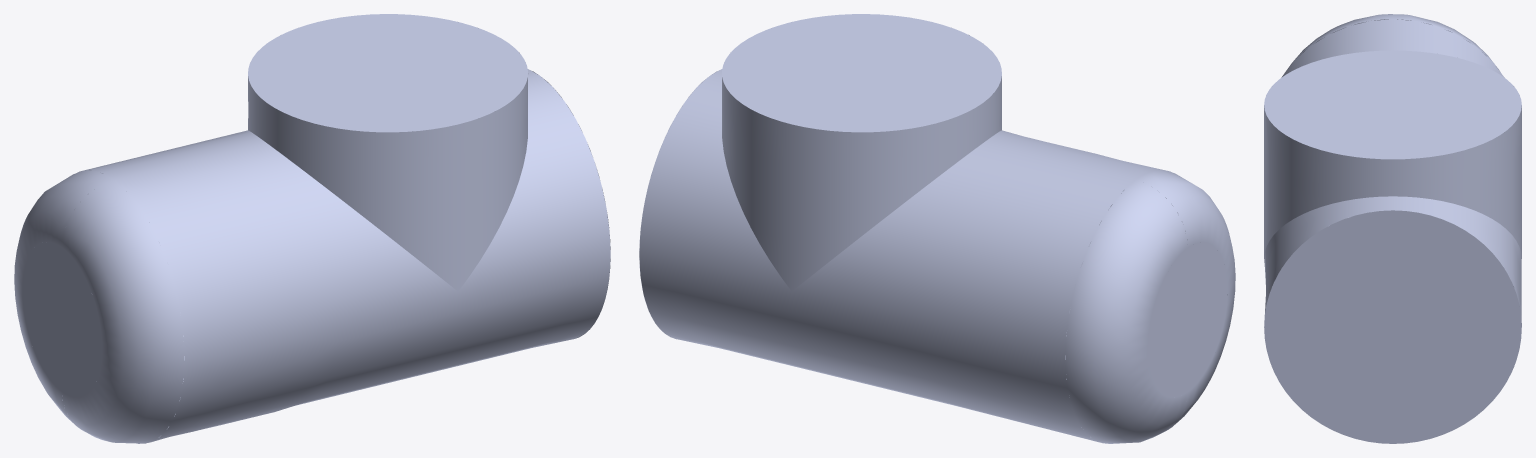
Rendered from joint_j25_fixed_axis_origin.glb.
The picture shows the model from 3 angles, left to right: view 1: azimuth 30°, elevation 25°; view 2: azimuth 150°, elevation 25°; view 3: azimuth 270°, elevation 25°; orthographic projection. The views are drawn at different scales.
Visible parts, largest first — view 1: joint_j25_fixed_axis_origin.IGS (×8); view 2: joint_j25_fixed_axis_origin.IGS (×8); view 3: joint_j25_fixed_axis_origin.IGS (×7).
Boxes of the visible parts, x1=… form: joint_j25_fixed_axis_origin.IGS (×8): x1=14, y1=14, x2=610, y2=443; joint_j25_fixed_axis_origin.IGS (×8): x1=639, y1=14, x2=1235, y2=443; joint_j25_fixed_axis_origin.IGS (×7): x1=1264, y1=14, x2=1521, y2=443.
Bounding box in the file's own units: 0.274 × 0.161 × 0.139.
